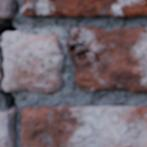brick: (67, 27, 146, 92), (22, 107, 146, 146), (22, 0, 146, 18), (0, 112, 14, 146), (0, 0, 14, 19)
broken_brick: (3, 29, 66, 95)
crack: (0, 2, 20, 144), (67, 39, 107, 70)
